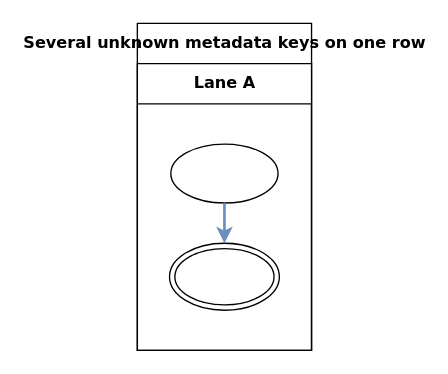
Some shapes in this 448 by 374 pixel diagram are drawn without their labels. Here are the shapes that lost their labels. From the top down, the centre of each, then its label:
the point at 224,173: Enter
the point at 223,276: Done
